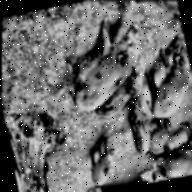boar: (49, 0, 154, 126), (125, 31, 192, 131), (94, 63, 154, 139), (141, 130, 192, 184), (75, 143, 124, 192), (125, 101, 158, 162), (146, 112, 178, 158)
